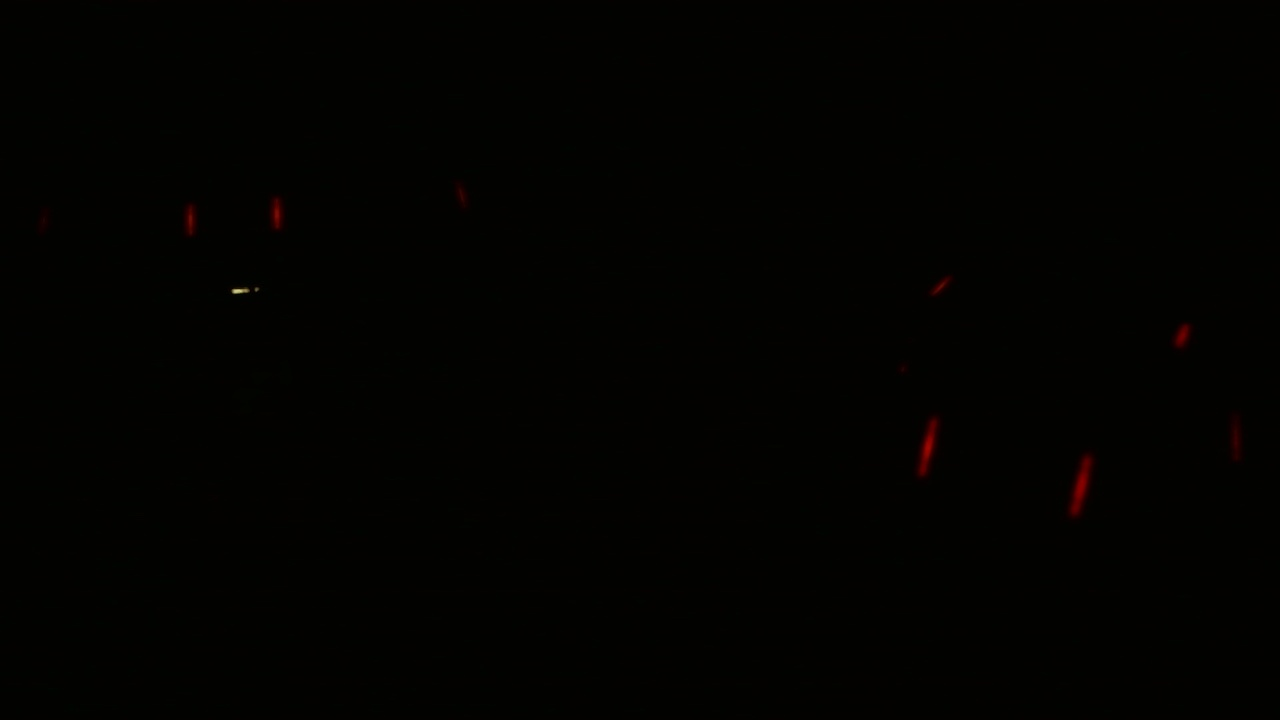pair1: (916, 404, 1095, 515), (176, 185, 290, 244)
